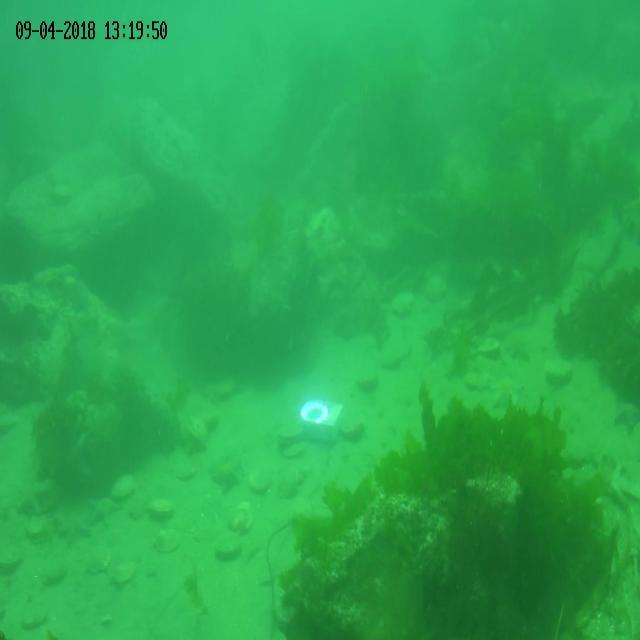scallop: (376, 329, 412, 368), (545, 351, 576, 381), (154, 521, 181, 553), (215, 528, 241, 561), (84, 545, 110, 578), (146, 493, 174, 521), (42, 557, 68, 587), (231, 498, 253, 532), (250, 463, 274, 493), (19, 606, 47, 630), (0, 543, 24, 571), (342, 411, 364, 441), (424, 271, 446, 300), (354, 367, 378, 393), (111, 472, 137, 496), (111, 559, 135, 585), (277, 422, 303, 444), (392, 291, 414, 316), (478, 332, 499, 358), (174, 460, 197, 482)
starfish: (15, 472, 52, 514), (491, 369, 524, 408), (60, 509, 90, 547), (92, 490, 120, 527), (614, 395, 640, 428)
